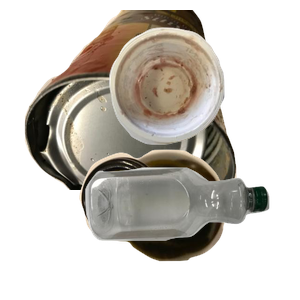glass: (77, 147, 295, 300)
metal: (22, 10, 251, 190)
plastic: (83, 165, 300, 300)
trash: (107, 25, 300, 162)
